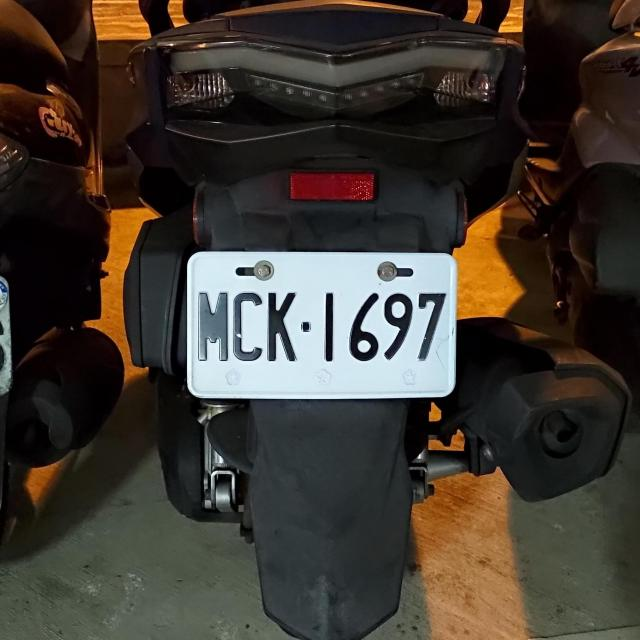W: (184, 249, 454, 398)
